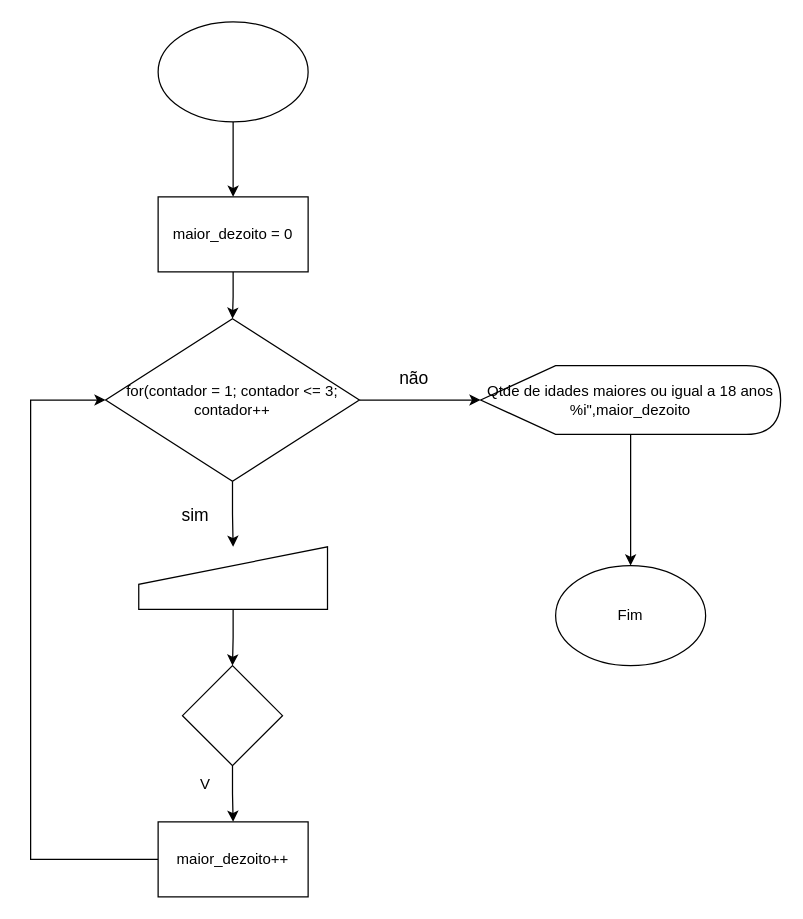
This 803x919 diagram has some shape labels left out. Each missing label, with the centre of its shape:
idade: (x=233, y=577)
idade >= 18: (x=231, y=715)
Início: (x=232, y=71)
